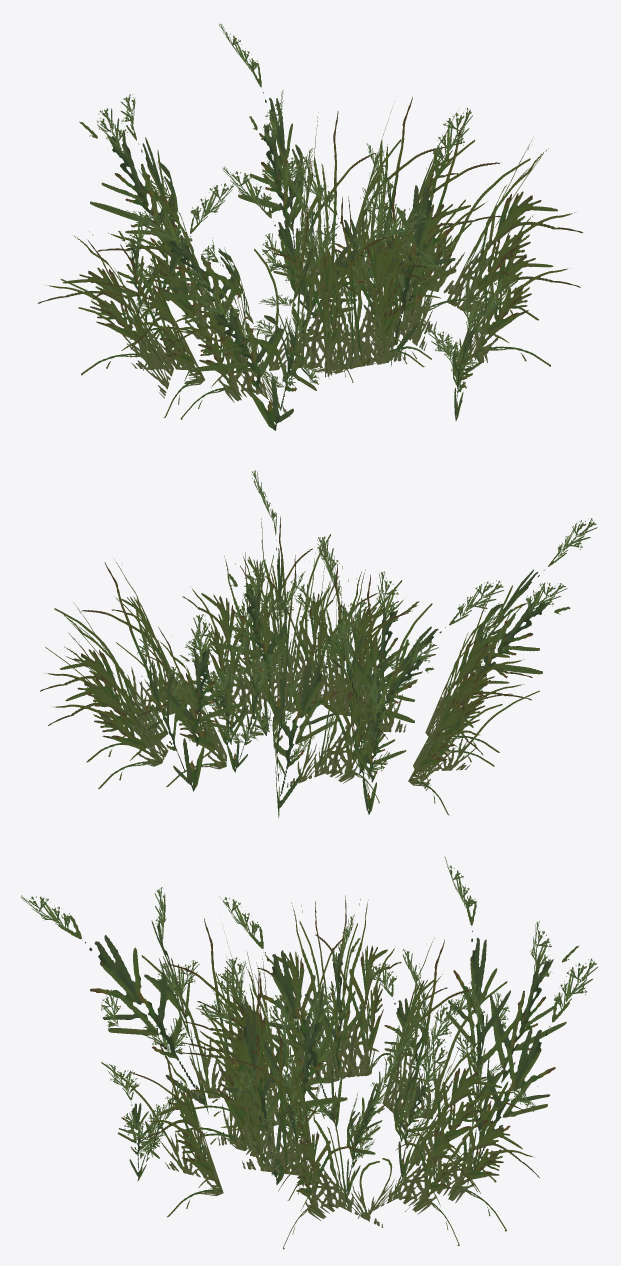
The model's file is arden_forest_grass_bush_01_foliage.fbx.
3 views of the same model, one above another, from view 1: azimuth 30°, elevation 25°; view 2: azimuth 150°, elevation 25°; view 3: azimuth 270°, elevation 25° (orthographic). The views are drawn at different scales.
Visible parts, largest first — view 1: arden_forest_grass_bush_01_foliage; view 2: arden_forest_grass_bush_01_foliage; view 3: arden_forest_grass_bush_01_foliage.
Boxes of the visible parts, left/top/right/bottom form: arden_forest_grass_bush_01_foliage: left=37, top=23, right=582, bottom=430; arden_forest_grass_bush_01_foliage: left=40, top=470, right=597, bottom=818; arden_forest_grass_bush_01_foliage: left=21, top=856, right=597, bottom=1249.
Size of the model in its own units: 128 by 62.62 by 128.
